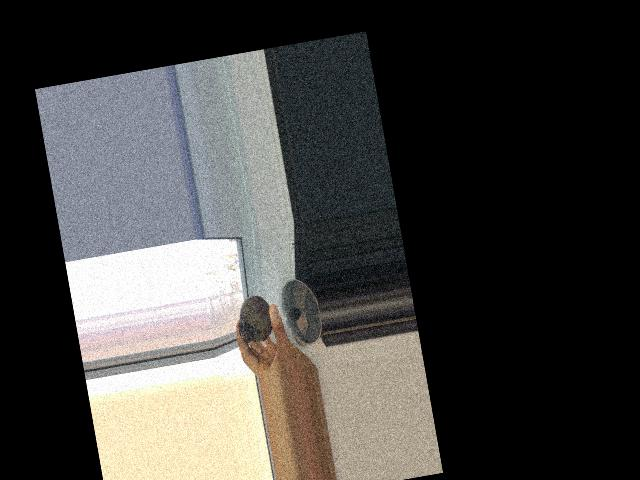beet: (233, 292, 278, 357)
